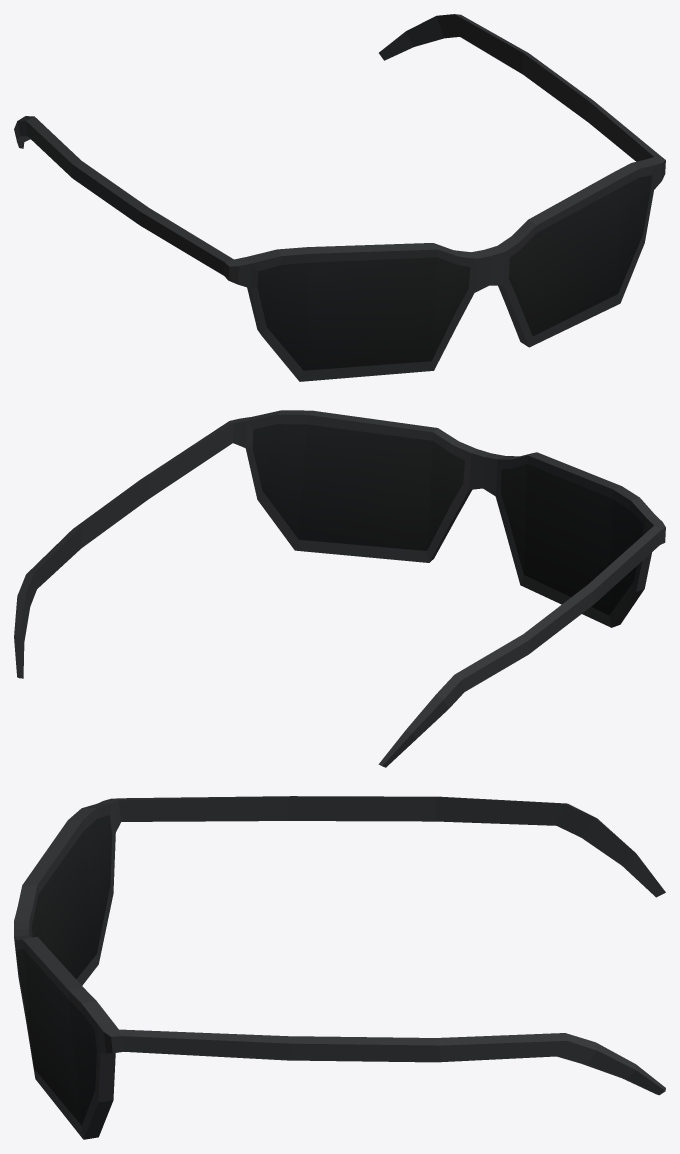
The model's file is SunglassesV1.glb.
3 views of the same model, one above another, from view 1: azimuth 30°, elevation 25°; view 2: azimuth 150°, elevation 25°; view 3: azimuth 270°, elevation 25° (orthographic). The views are drawn at different scales.
Visible parts, largest first — view 1: SunglassesV1; view 2: SunglassesV1; view 3: SunglassesV1.
Part boxes in pixels (bbox=[...]): SunglassesV1: bbox=[14, 14, 665, 381]; SunglassesV1: bbox=[14, 410, 665, 767]; SunglassesV1: bbox=[14, 796, 665, 1139].
Bounding box in the file's own units: 0.1441 × 0.0404 × 0.1596.
Materials: 1 (1 with a texture image).
